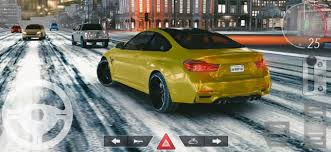car: (98, 32, 271, 114), (72, 25, 110, 48)
